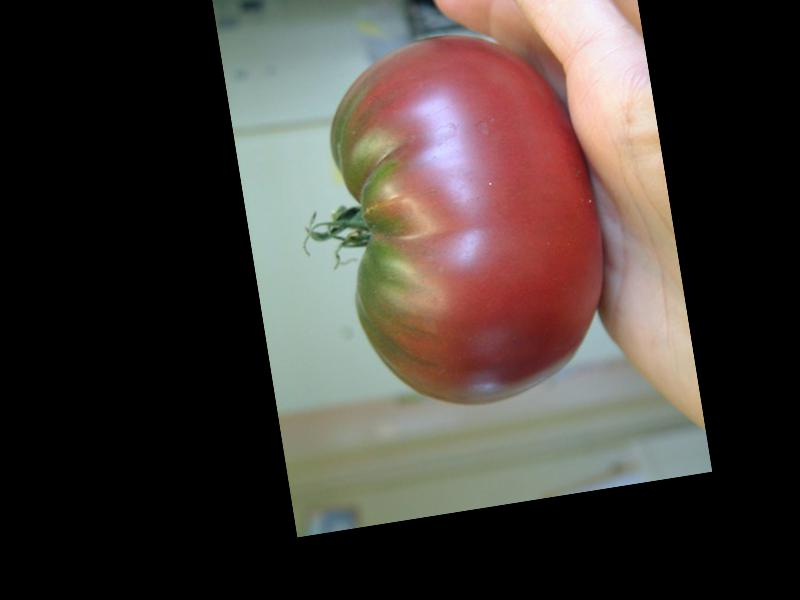Tomato: (315, 16, 624, 421)
